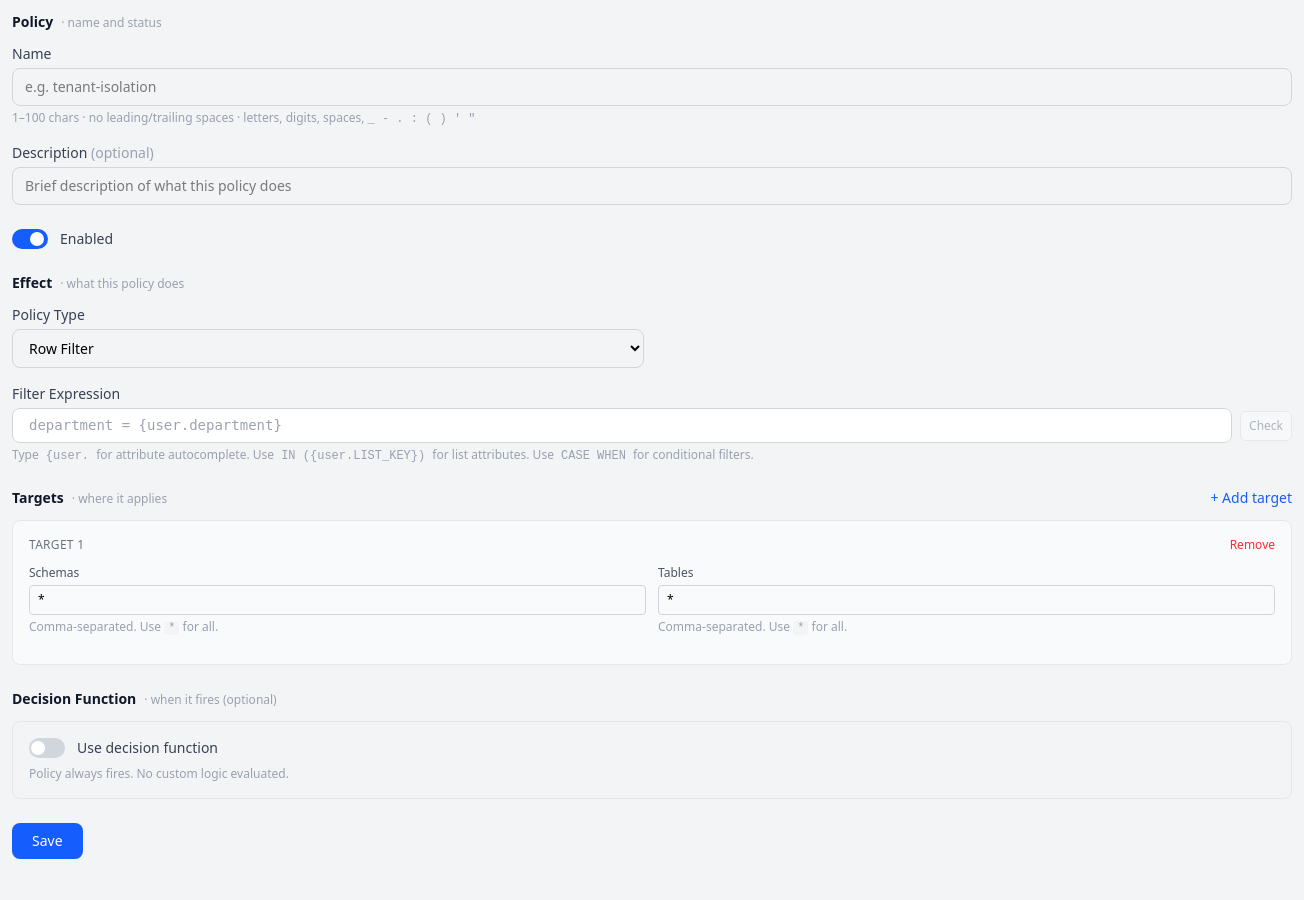
it: PolicyForm — targets › removes a target when Remove is clicked
The width and height of the screenshot is (1304, 900).
Click the button "+ Add target".
click(1251, 498)  # box [1210,488,1292,508]
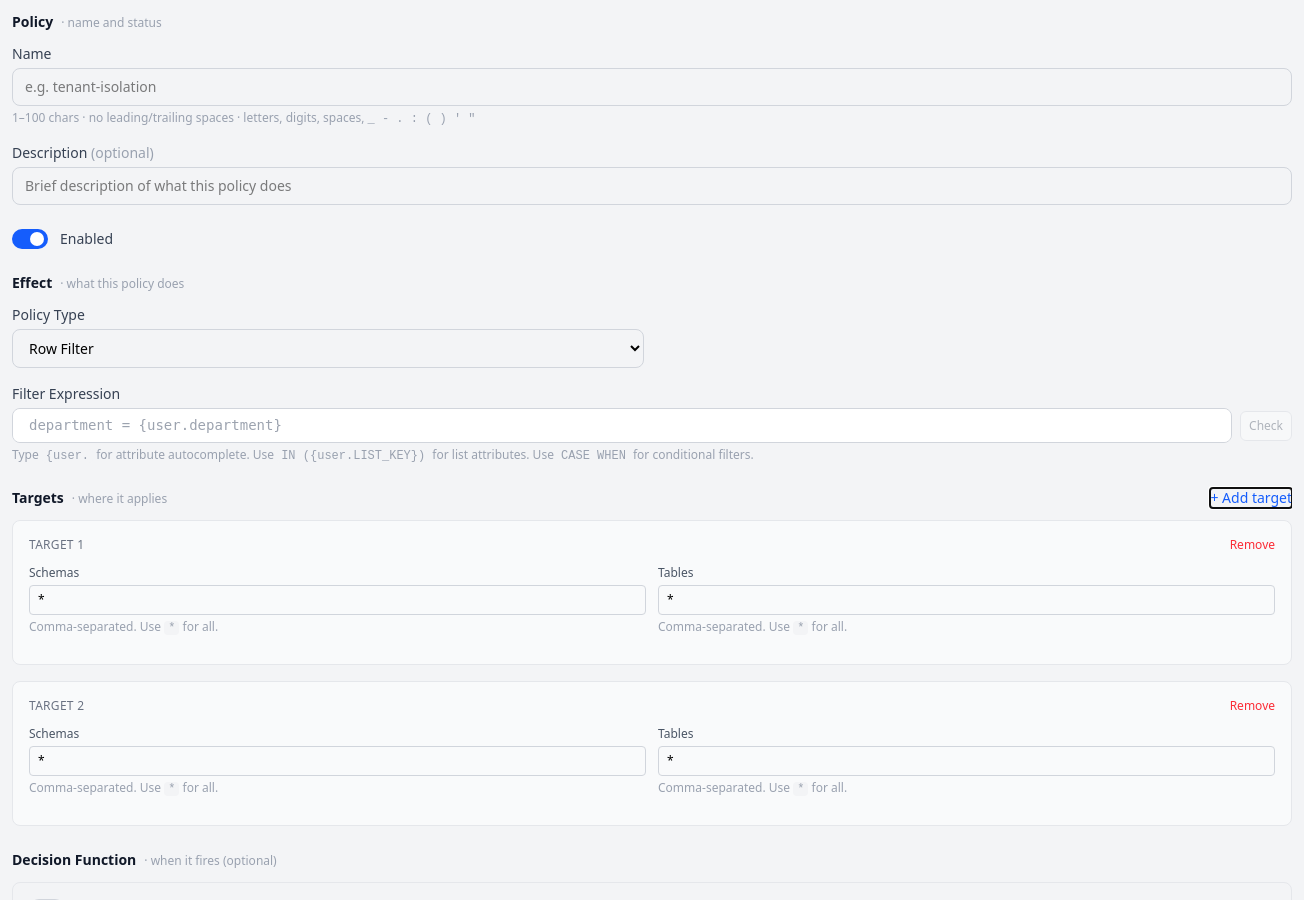
Result: the text "Target 2" is shown at [29,698,84,714]
Click the 1st button "Remove".
click(1252, 545)  # box [1230,537,1275,553]
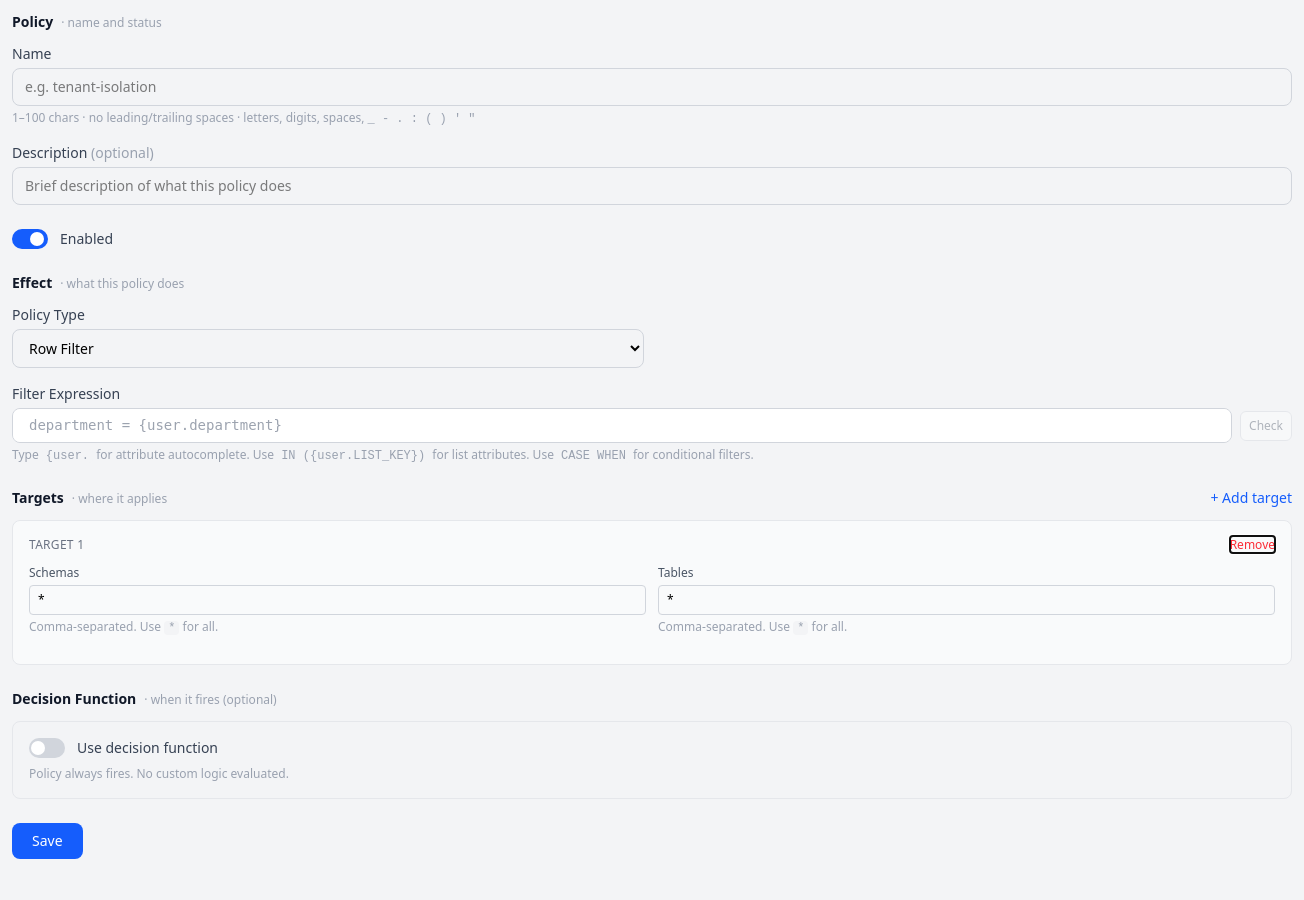
Result: the text "Target 2" is gone
